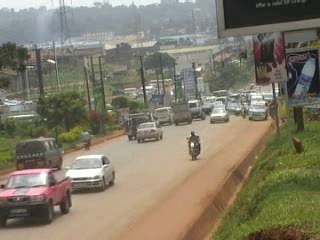Car: (63, 153, 116, 193), (124, 111, 160, 141), (135, 120, 164, 144), (208, 106, 230, 125), (200, 100, 214, 114), (228, 101, 241, 114)
Motorcycle: (185, 128, 202, 160), (81, 128, 92, 151), (239, 102, 247, 120)
